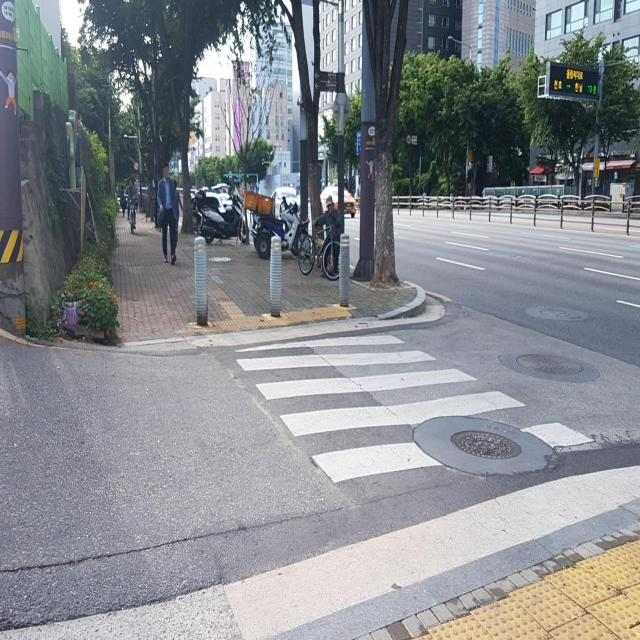횡단보도: (233, 330, 596, 488)
